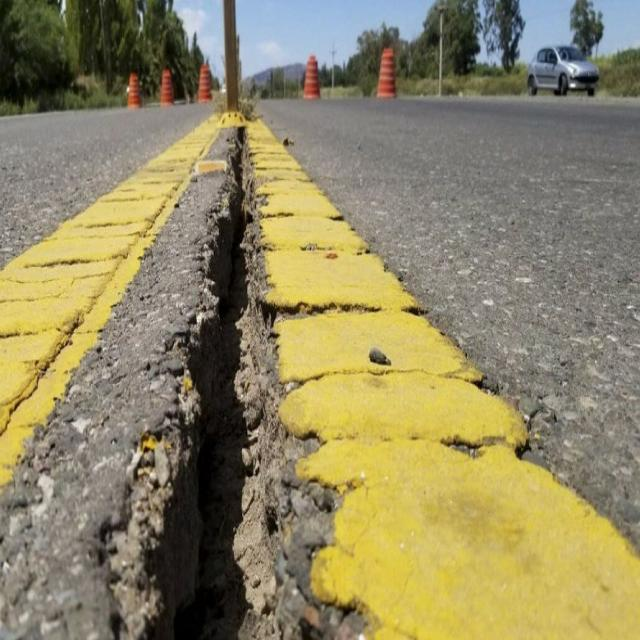Pothole: (123, 158, 407, 640)
